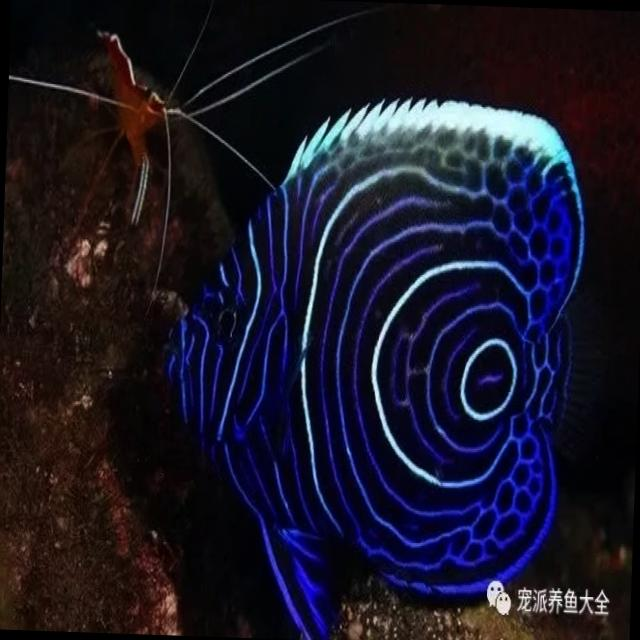AngelFish: (159, 87, 588, 640)
